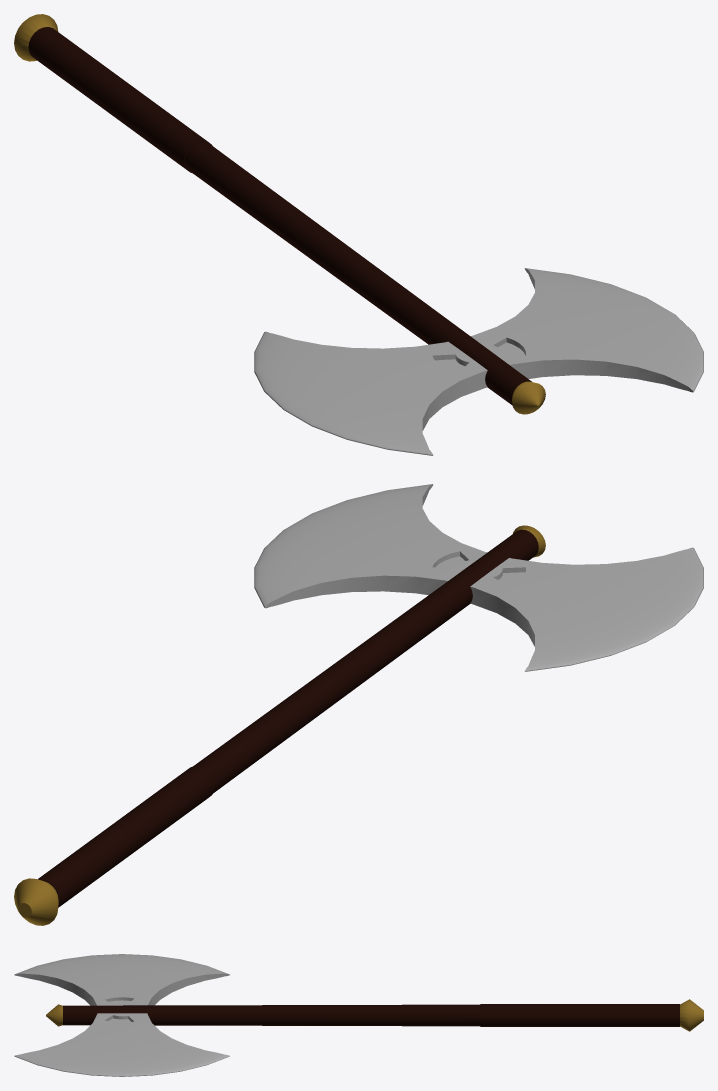
Rendered from Axe.fbx.
3 views of the same model, one above another, from view 1: azimuth 30°, elevation 25°; view 2: azimuth 150°, elevation 25°; view 3: azimuth 270°, elevation 25° (orthographic). The views are drawn at different scales.
Visible parts, largest first — view 1: pSphere4; view 2: pSphere4; view 3: pSphere4.
Part boxes in pixels (x1,y1,x2,y2): pSphere4: (14,14,703,455); pSphere4: (14,484,703,925); pSphere4: (14,954,703,1076).
Size of the model in its own units: 40.44 by 4.59 by 96.32.
